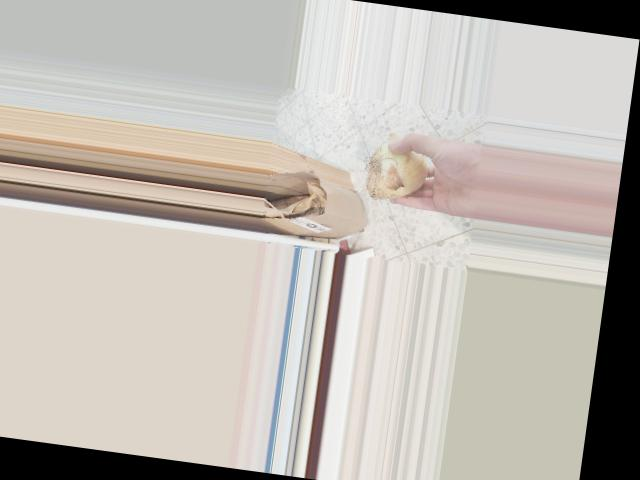onion: (361, 133, 433, 206)
